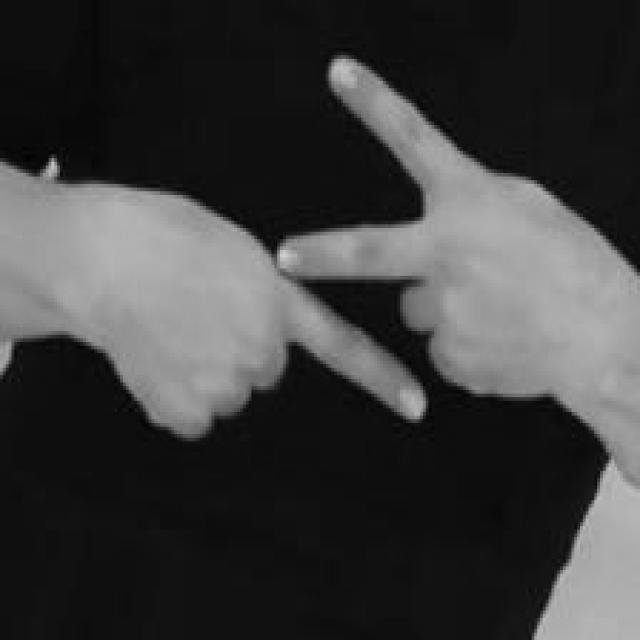Z: (108, 47, 564, 442)
